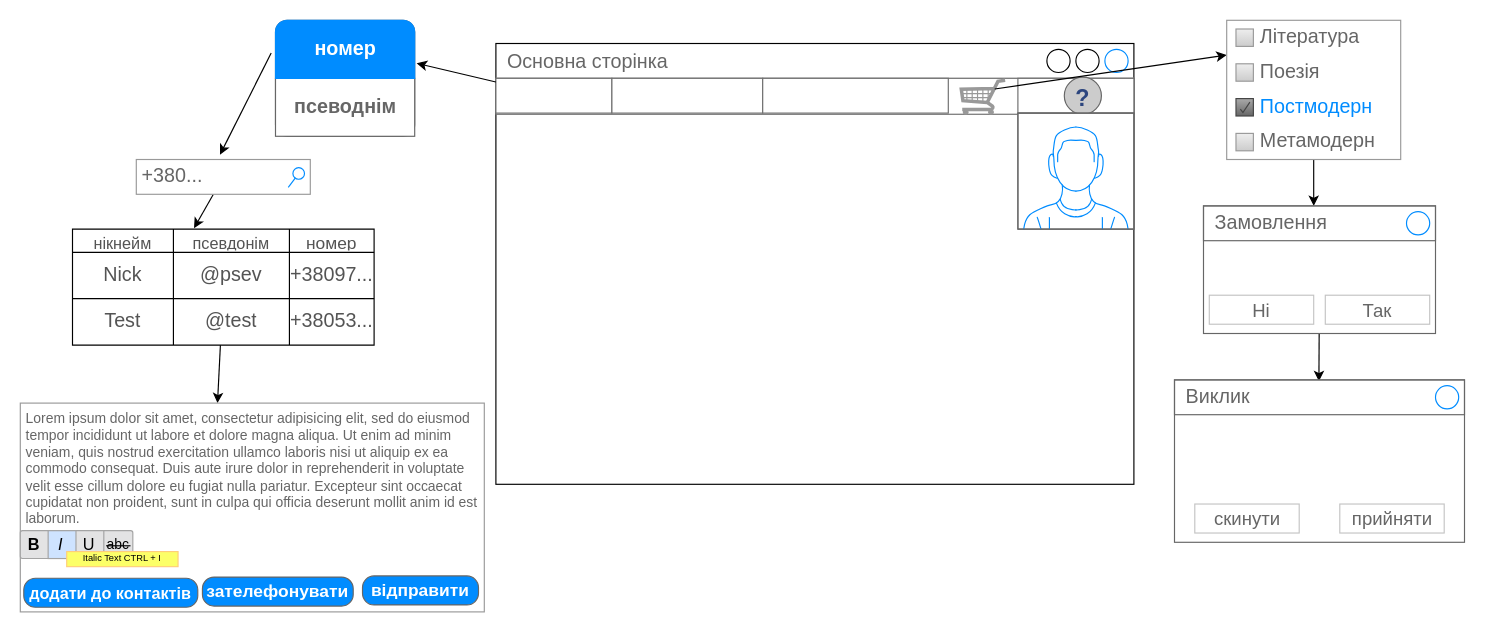
Image size: 1485x632. Some labels were removed from this diagram. Each missing label, with the centre of its shape:
Зробити замовлення?: (x=1319, y=269)
Курси: (x=687, y=95)
Налаштування: (x=855, y=95)
Пошук: (x=553, y=95)
Телефонує "Курси": (x=1318, y=460)
